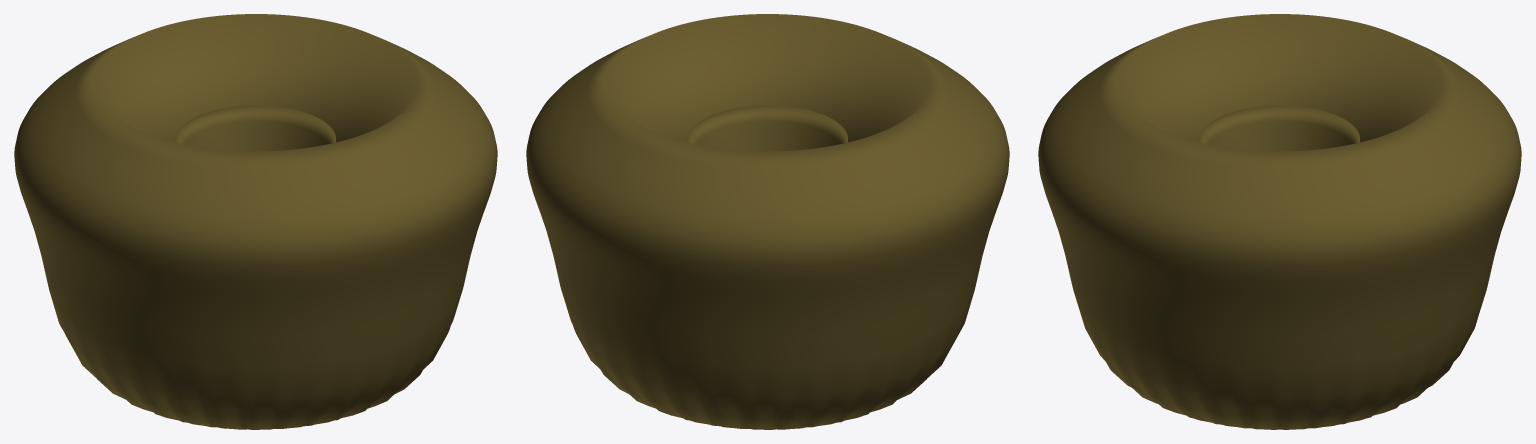
File: pot_small.fbx
The picture shows the model from 3 angles, left to right: view 1: azimuth 30°, elevation 25°; view 2: azimuth 150°, elevation 25°; view 3: azimuth 270°, elevation 25°; orthographic projection.
Visible parts, largest first — view 1: Small_Pot; view 2: Small_Pot; view 3: Small_Pot.
Boxes of the visible parts, box(x1,y1,x2,y2) form: Small_Pot: box(14, 14, 497, 429); Small_Pot: box(526, 14, 1009, 429); Small_Pot: box(1038, 14, 1521, 429).
Bounding box in the file's own units: 29.62 × 21.37 × 29.62.
